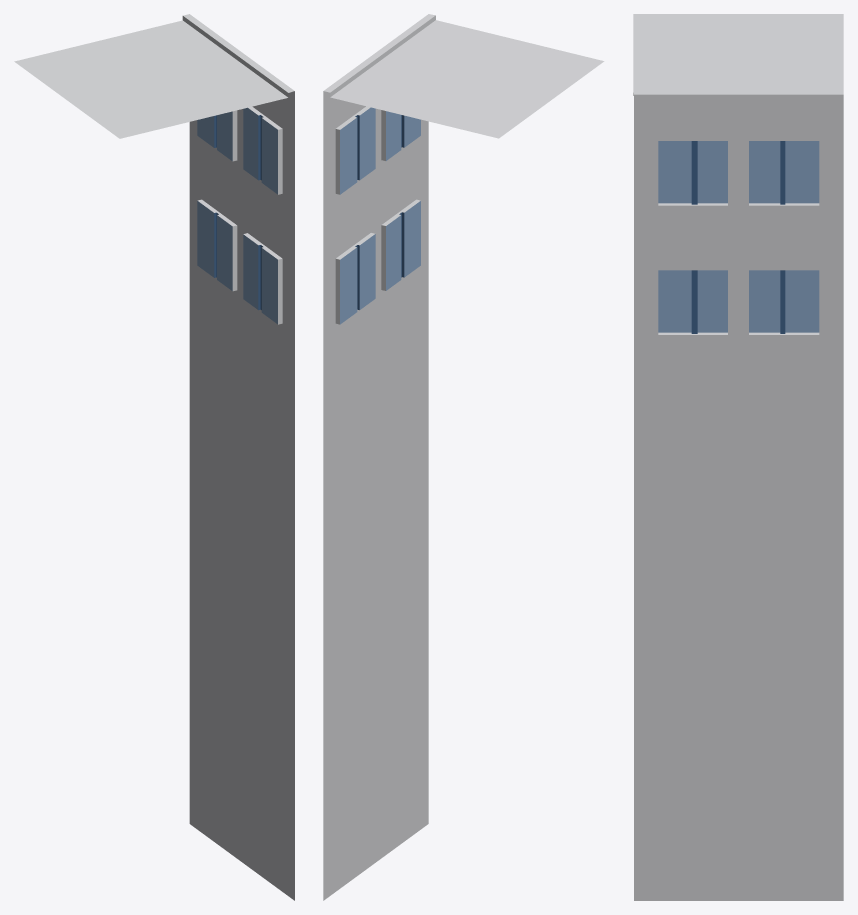
Rendered from Front.fbx.
3 views of the same model, side by side, from view 1: azimuth 30°, elevation 25°; view 2: azimuth 150°, elevation 25°; view 3: azimuth 270°, elevation 25° (orthographic).
Parts seen in each view (by area): view 1: Front; view 2: Front; view 3: Front.
Boxes of the visible parts, box(x1,y1,x2,y2) form: Front: box(14, 14, 294, 900); Front: box(323, 14, 604, 900); Front: box(633, 14, 843, 900).
Size of the model in its own units: 592 by 2612 by 618.
1 material, 1 textured.
